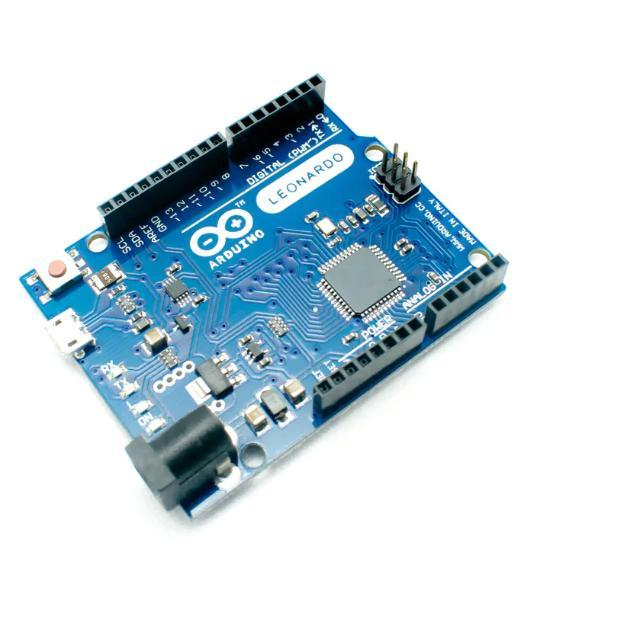Arduino-leonardo: (20, 76, 508, 517)
